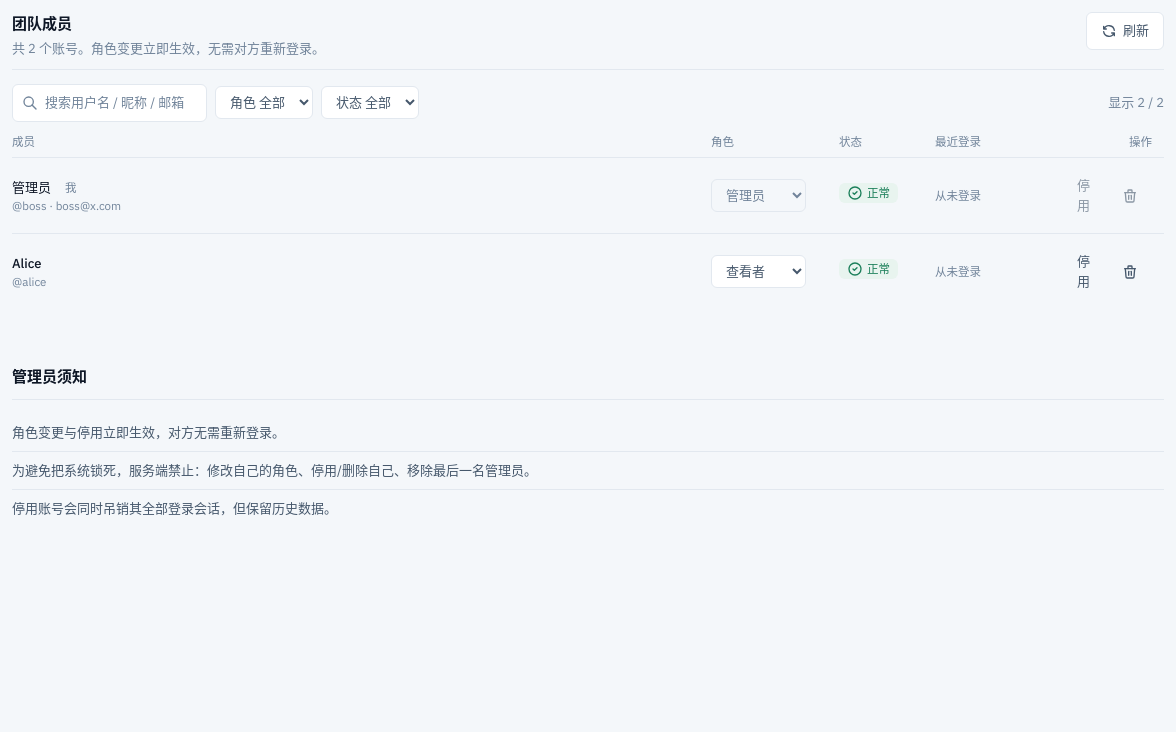
Test case: TeamPanel › 搜索过滤：输入关键字后只显示匹配成员
Expected: the text "Alice" is shown, top-left (12, 254), bottom-right (42, 274)
Type "ALICE-NO-MATCH" into the field with placeholder "搜索用户名 / 昵称 / 邮箱" at (110,103), box top-left (12, 84), bottom-right (207, 122)
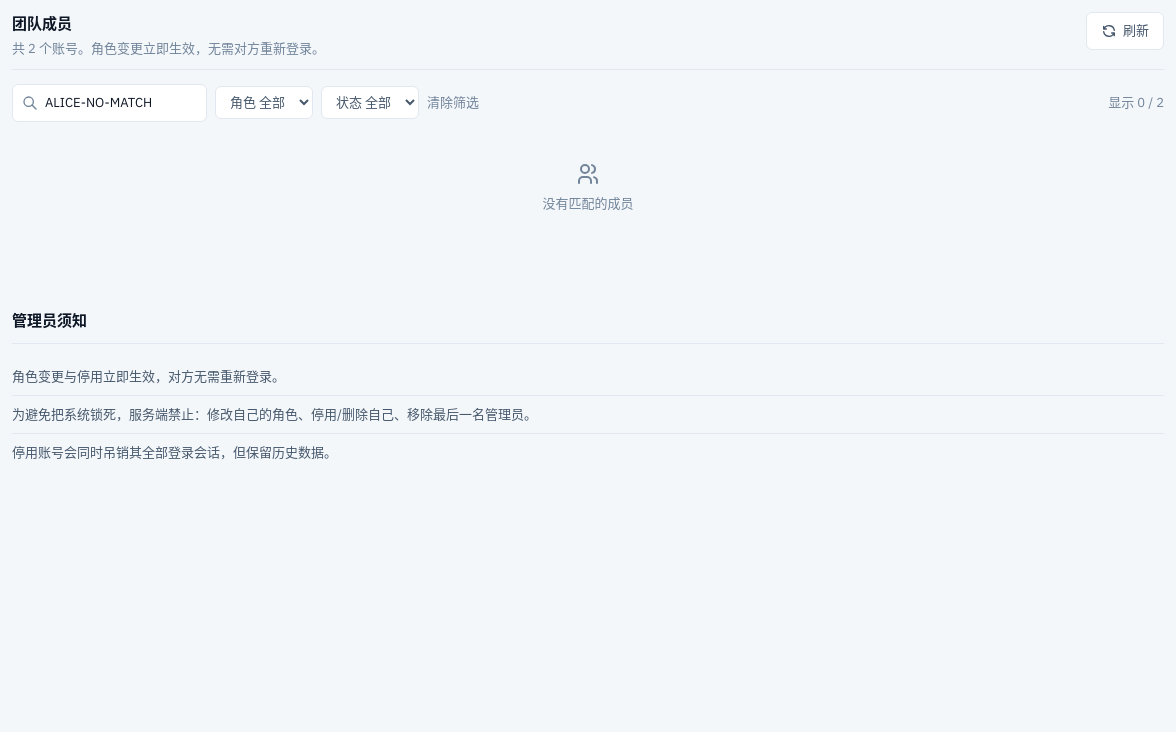
Now the text "没有匹配的成员" is shown, box top-left (542, 194), bottom-right (634, 213)
